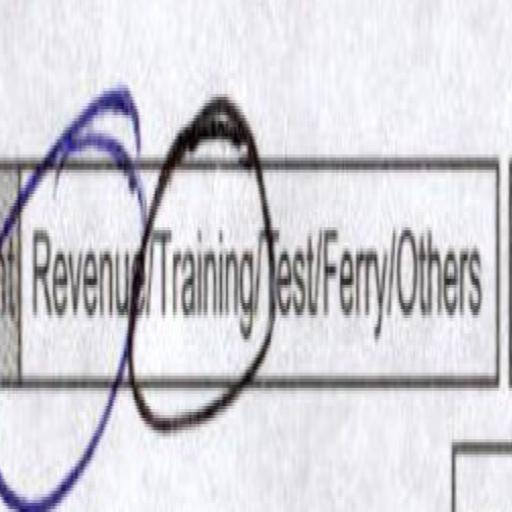check: (11, 89, 130, 512), (149, 56, 255, 512)
